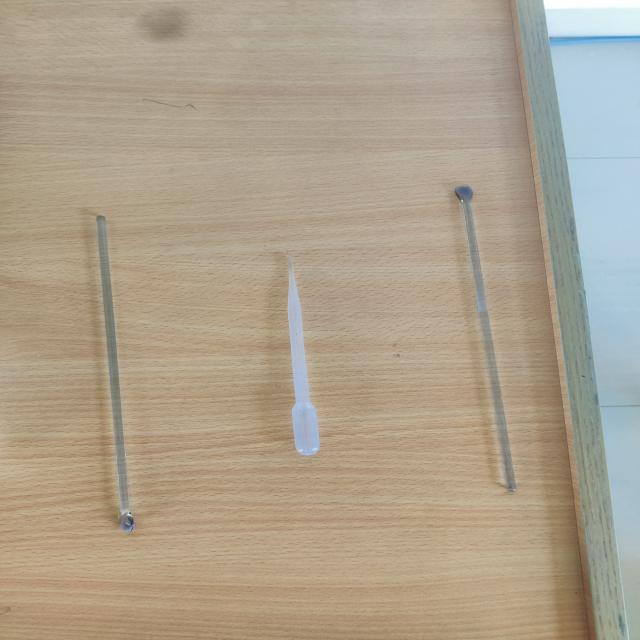Glass_Rod: (425, 149, 572, 516), (71, 191, 186, 544)
Pipette: (242, 223, 354, 472)
